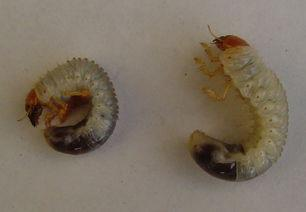grub: (23, 55, 120, 156)
